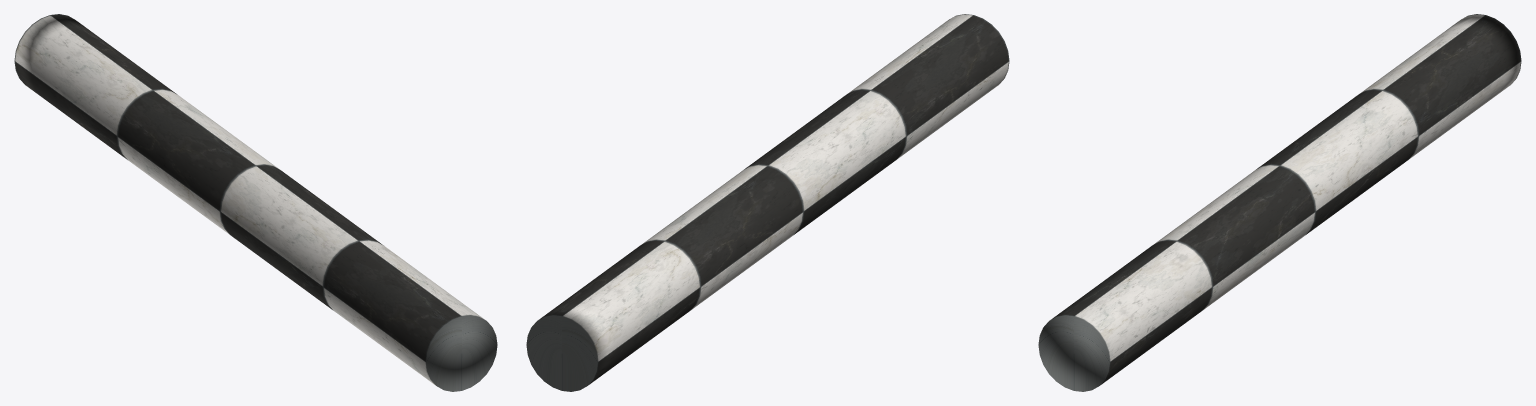
File: column10.obj
3 views of the same model, side by side, from view 1: azimuth 30°, elevation 25°; view 2: azimuth 150°, elevation 25°; view 3: azimuth 330°, elevation 25° (orthographic).
Visible parts, largest first — view 1: object; view 2: object; view 3: object.
Boxes of the visible parts, x1,y1,x2,y2 form: object: [14, 14, 497, 391]; object: [526, 14, 1009, 391]; object: [1038, 14, 1521, 391].
Bounding box in the file's own units: 0.1 × 0.1 × 1.
